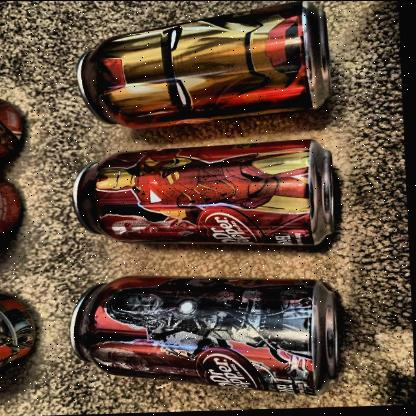Can: (64, 270, 356, 402), (75, 0, 348, 132), (71, 136, 345, 256), (0, 284, 46, 370), (0, 82, 36, 166), (0, 170, 28, 248)
